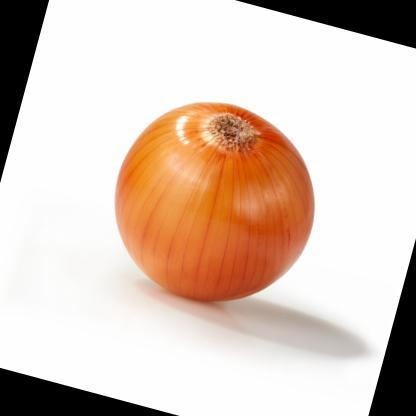onion: (82, 52, 355, 343)
